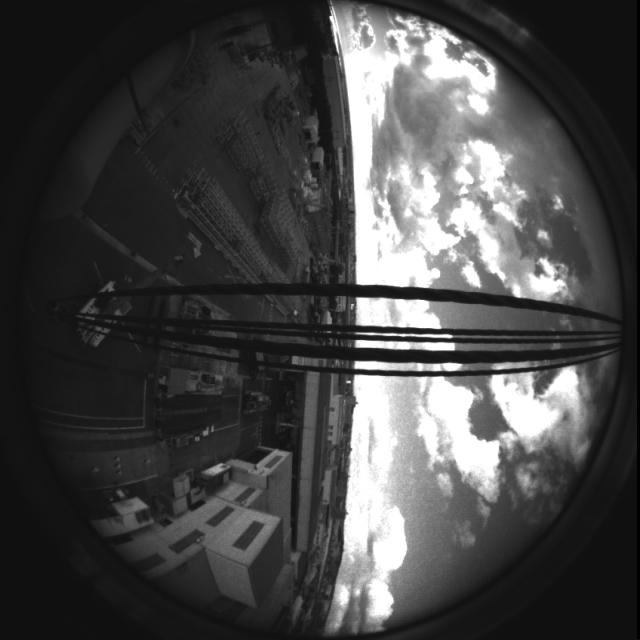rope: (14, 277, 635, 382)
sky: (321, 5, 623, 638)
